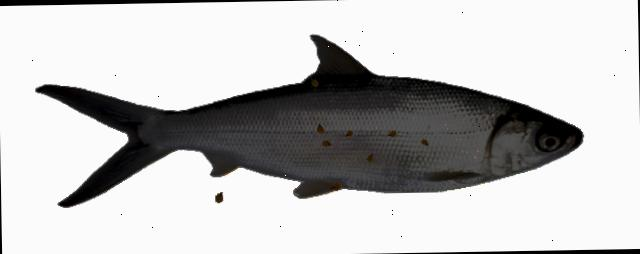Parasitic Disease: (36, 35, 583, 206), (37, 35, 582, 206)
